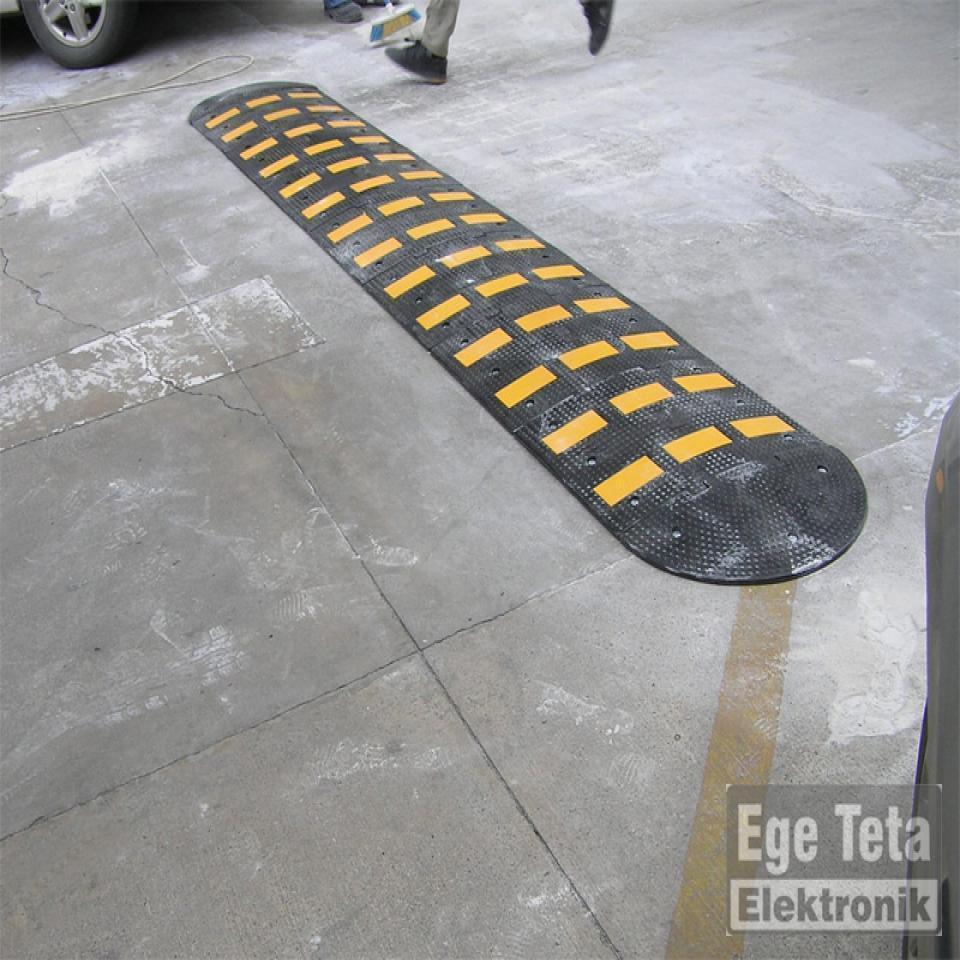Speed_Breaker: (183, 75, 881, 585), (182, 77, 871, 583)
